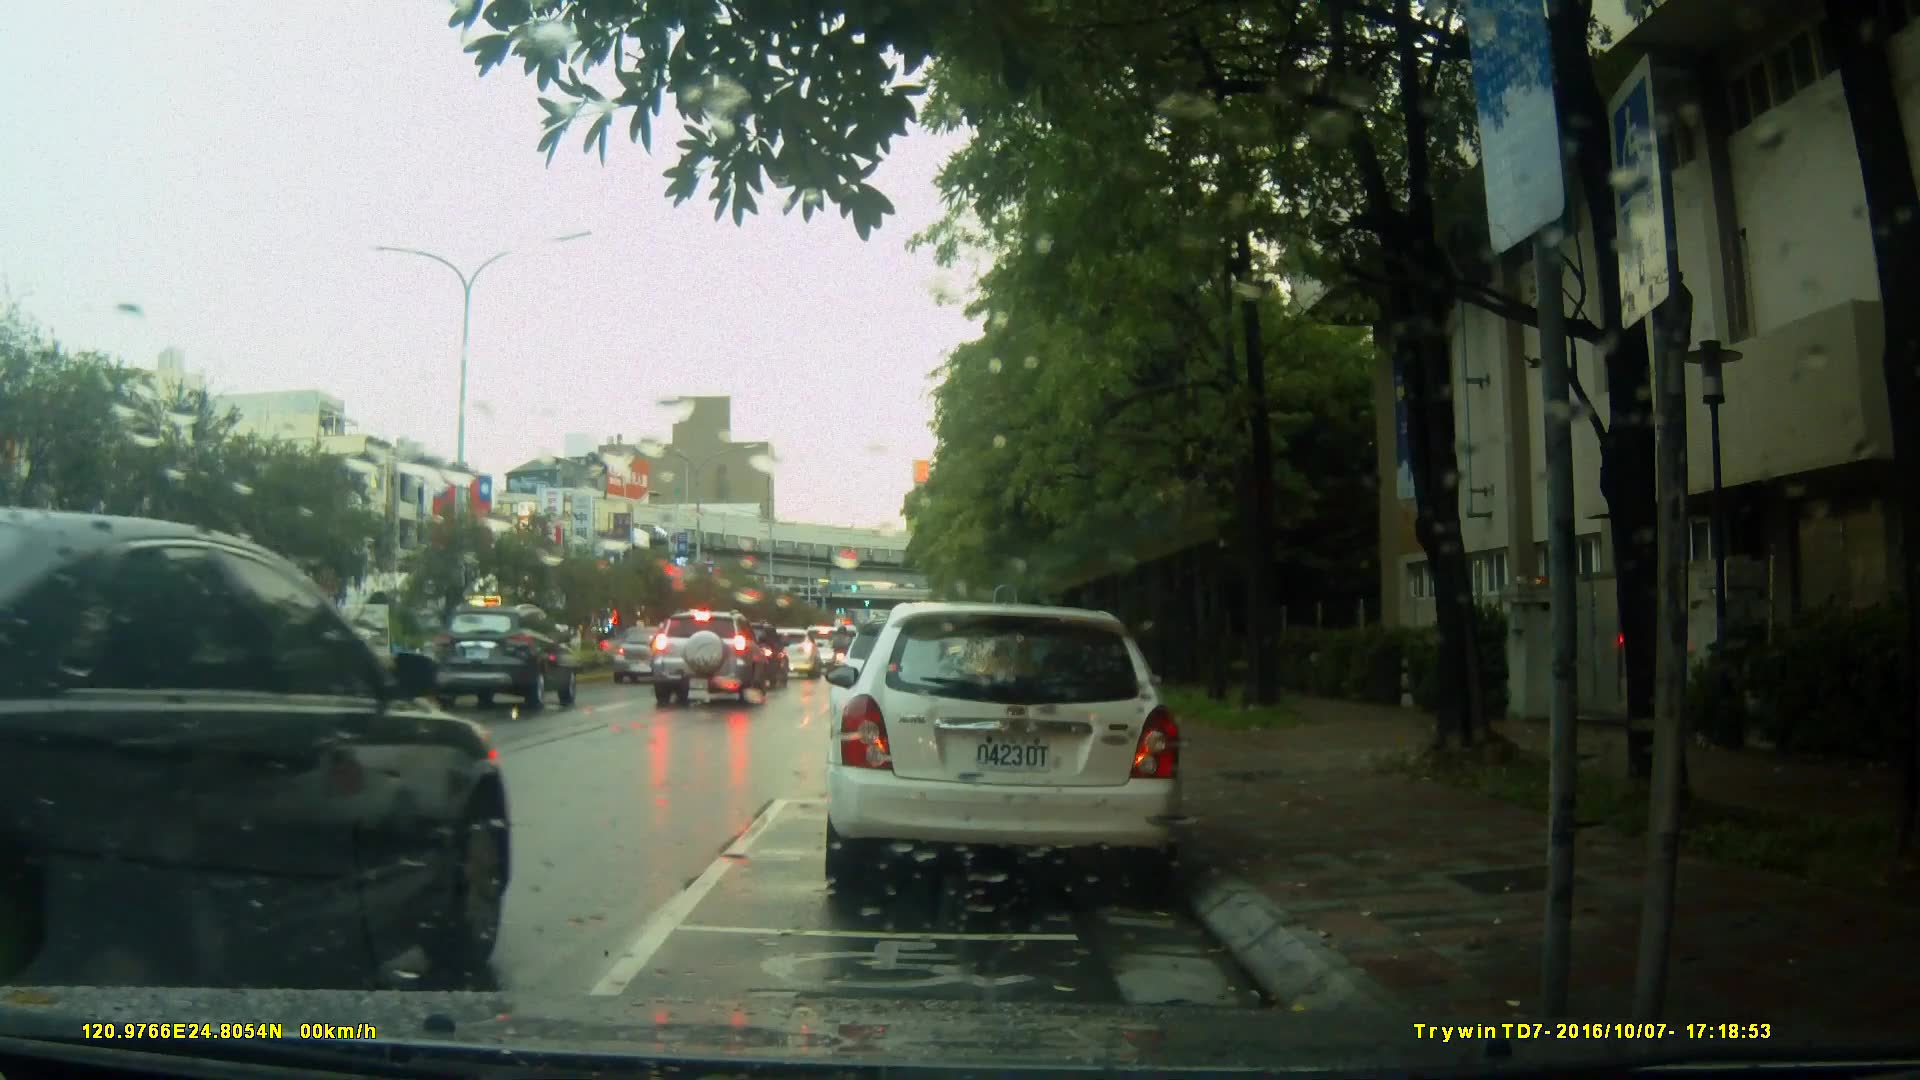rider: (827, 625, 861, 691)
vehicle: (1, 502, 515, 989), (820, 602, 1188, 898), (430, 603, 582, 708), (651, 609, 765, 710)
